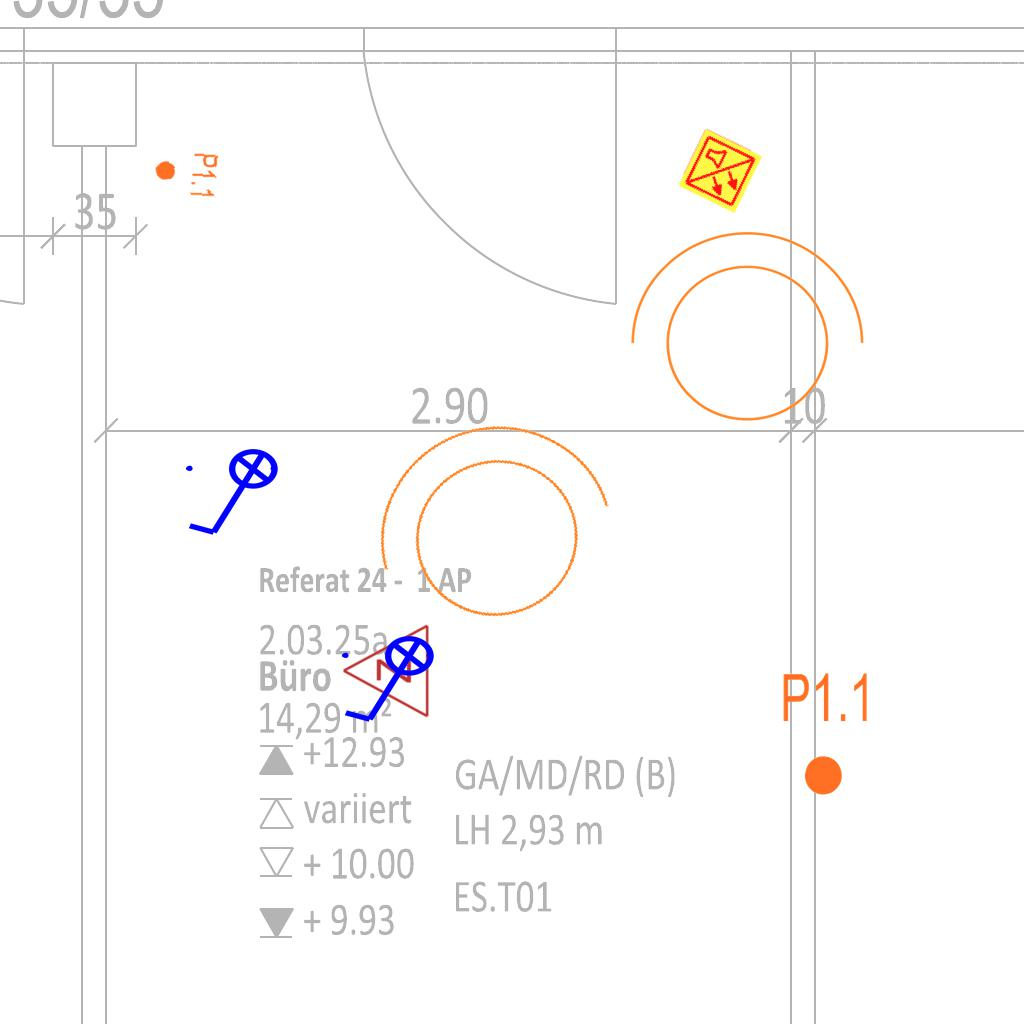Ausschalter_beleuchtet: (180, 447, 292, 543), (336, 634, 448, 730)
Downlight_LED_Einbauleuchten_Flur: (780, 670, 873, 798), (152, 148, 220, 200)
OKW_Multisensormelder_(Kombination_optischer_Rauch-Kahlenmonoxid_Waerme-Melder): (675, 126, 765, 216)
Scheinwerfer_fuer_Alarmbeleuchtung: (330, 385, 646, 676), (609, 221, 873, 446)
Zimmersignalleuchte: (336, 623, 436, 721)
